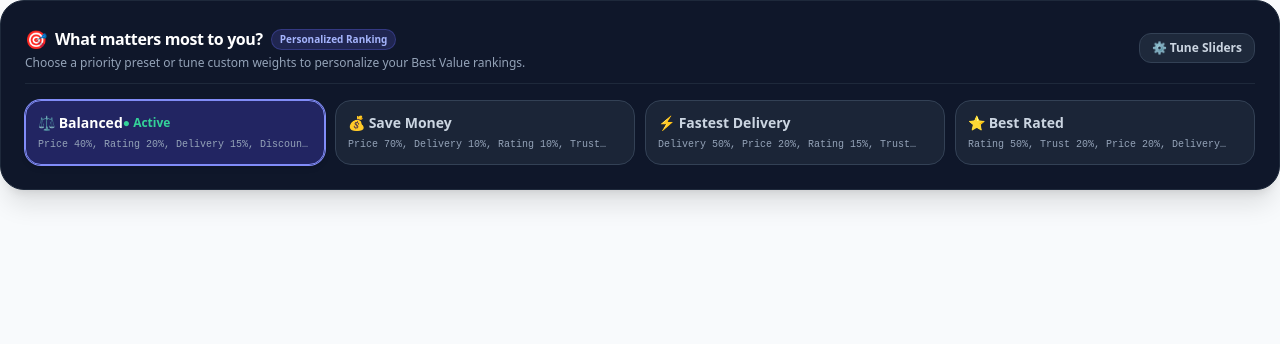
Test case: Personalized Ranking Toolbar Frontend › toggling Tune Sliders opens custom sliders drawer
This screenshot has width=1280, height=344.
Click the button "⚙️ Tune Sliders" at x=1197, y=48, box x1=1138 y1=33 x2=1255 y2=63
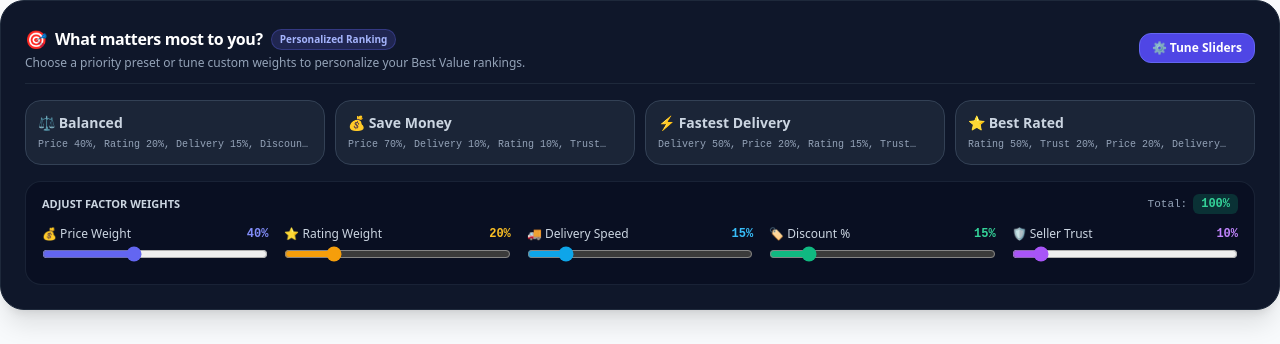
expect the element with test id "custom-sliders-drawer" is shown: met, box x1=25 y1=181 x2=1255 y2=285
expect the text "💰 Price Weight" is shown: met, box x1=42 y1=226 x2=131 y2=242
expect the text "⭐ Rating Weight" is shown: met, box x1=284 y1=226 x2=382 y2=242
